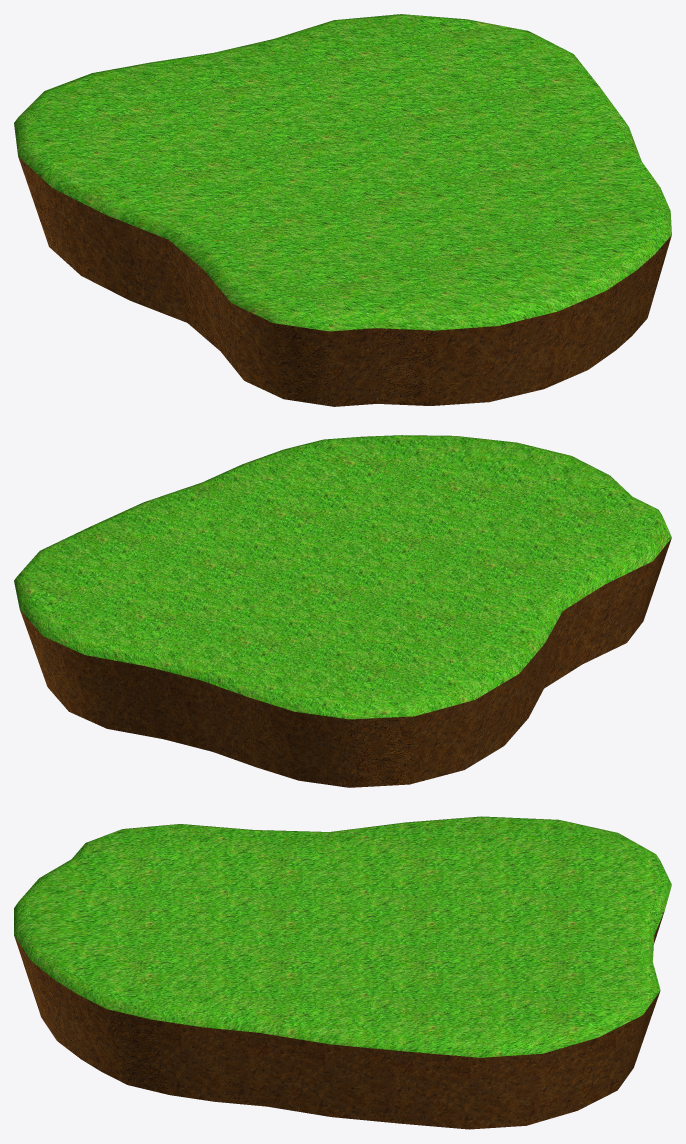
File: grassPlatform.fbx
The picture shows the model from 3 angles, top to bottom: view 1: azimuth 30°, elevation 25°; view 2: azimuth 150°, elevation 25°; view 3: azimuth 270°, elevation 25°; orthographic projection. The views are drawn at different scales.
Visible parts, largest first — view 1: pPlane7; view 2: pPlane7; view 3: pPlane7.
Boxes of the visible parts, x1,y1,x2,y2 form: pPlane7: [14, 14, 671, 406]; pPlane7: [14, 435, 671, 787]; pPlane7: [14, 816, 671, 1129].
Size of the model in its own units: 16.78 by 3.01 by 19.71.
